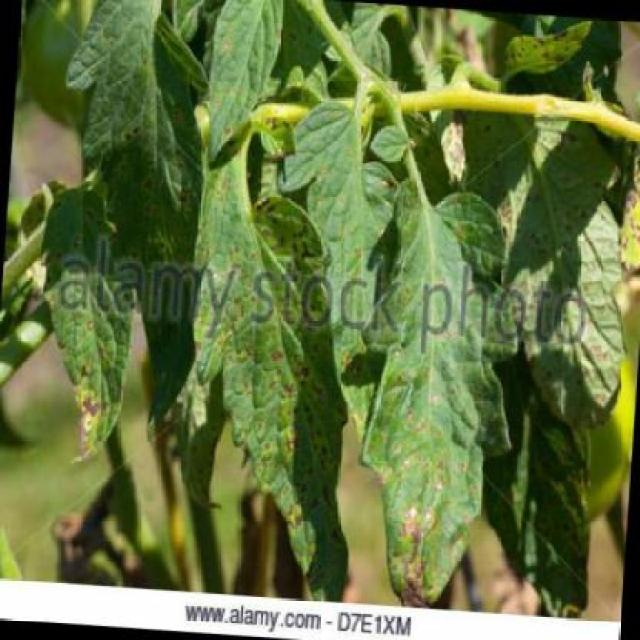Septoria leaf spot: (160, 119, 374, 603), (351, 162, 537, 618), (434, 85, 638, 428), (278, 86, 409, 389), (17, 162, 141, 478)
